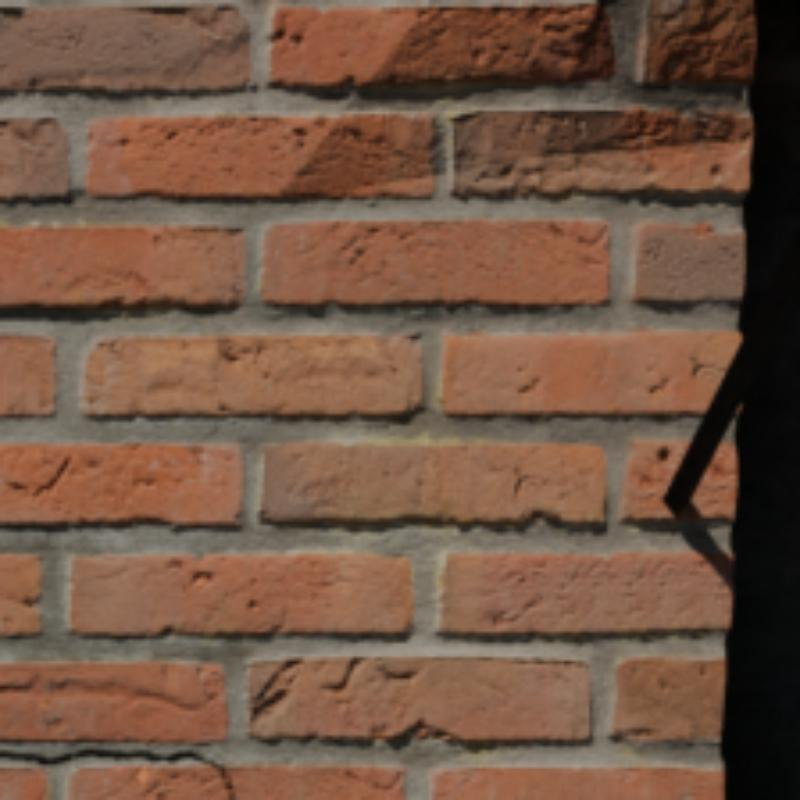pothole: (0, 750, 232, 796)
